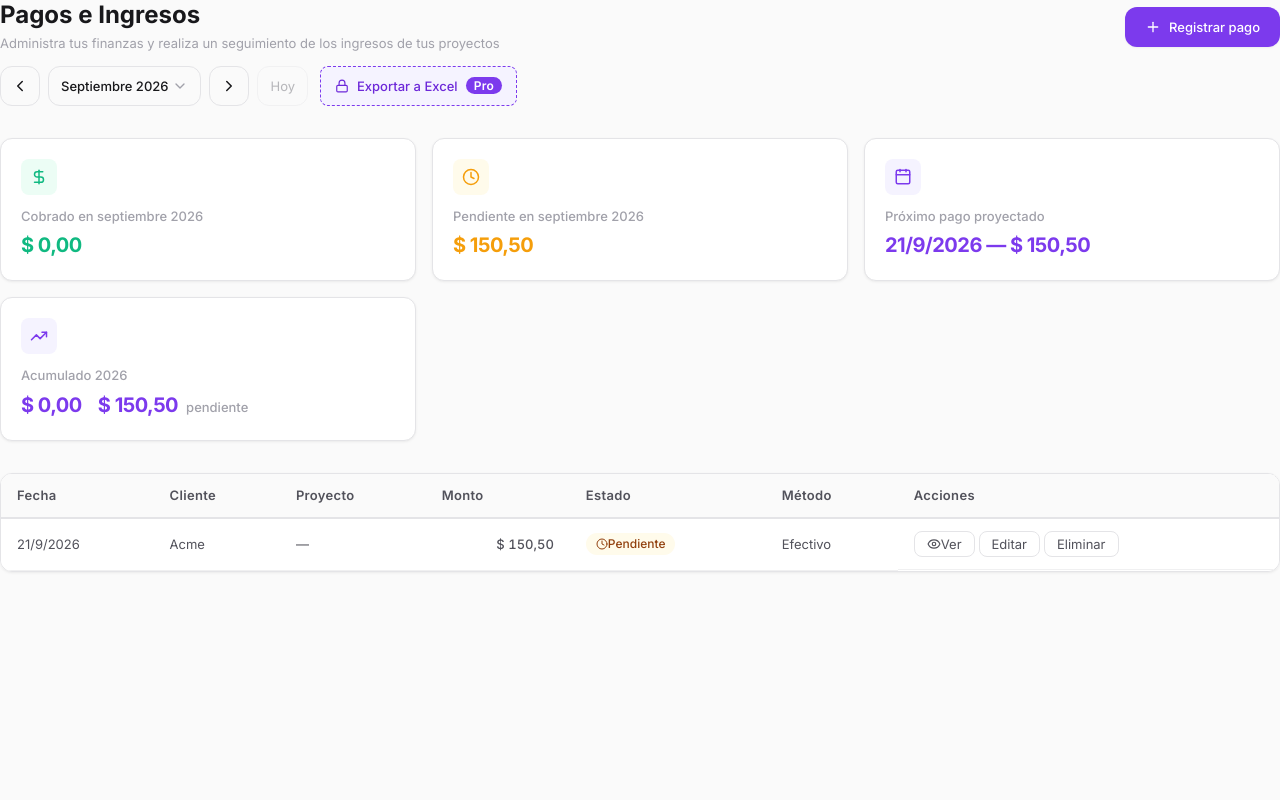
Test case: PaymentsPage — toast feedback › shows 'Pago actualizado' after editing an existing payment (triangulation: update path)
Click the button "Editar". click: [1009, 544]
box: top-left (978, 531), bottom-right (1040, 557)
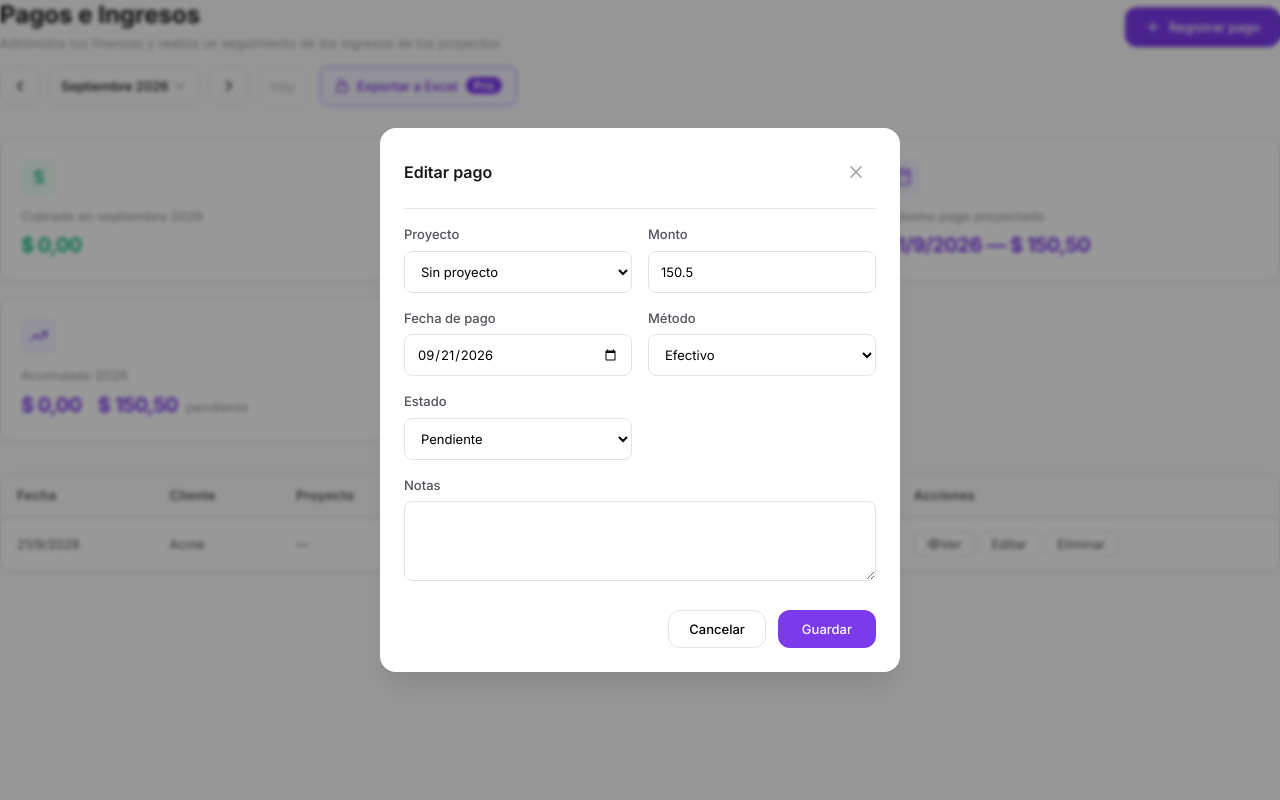
Expected: the heading "Editar pago" is shown, top-left (404, 162), bottom-right (492, 182)
Click the button "Guardar". click: [827, 629]
box: top-left (778, 610), bottom-right (876, 648)
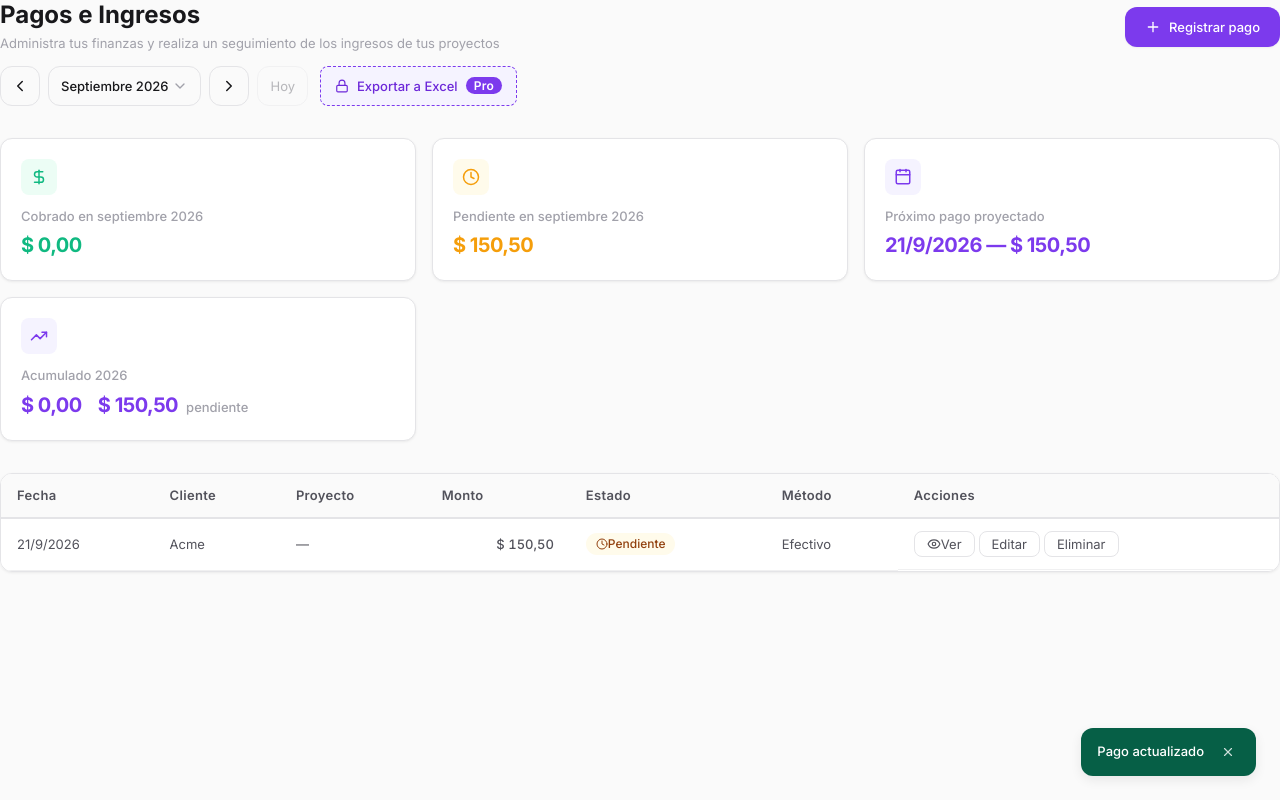
Expected: the text "Pago actualizado" is shown, top-left (1097, 742), bottom-right (1204, 762)
